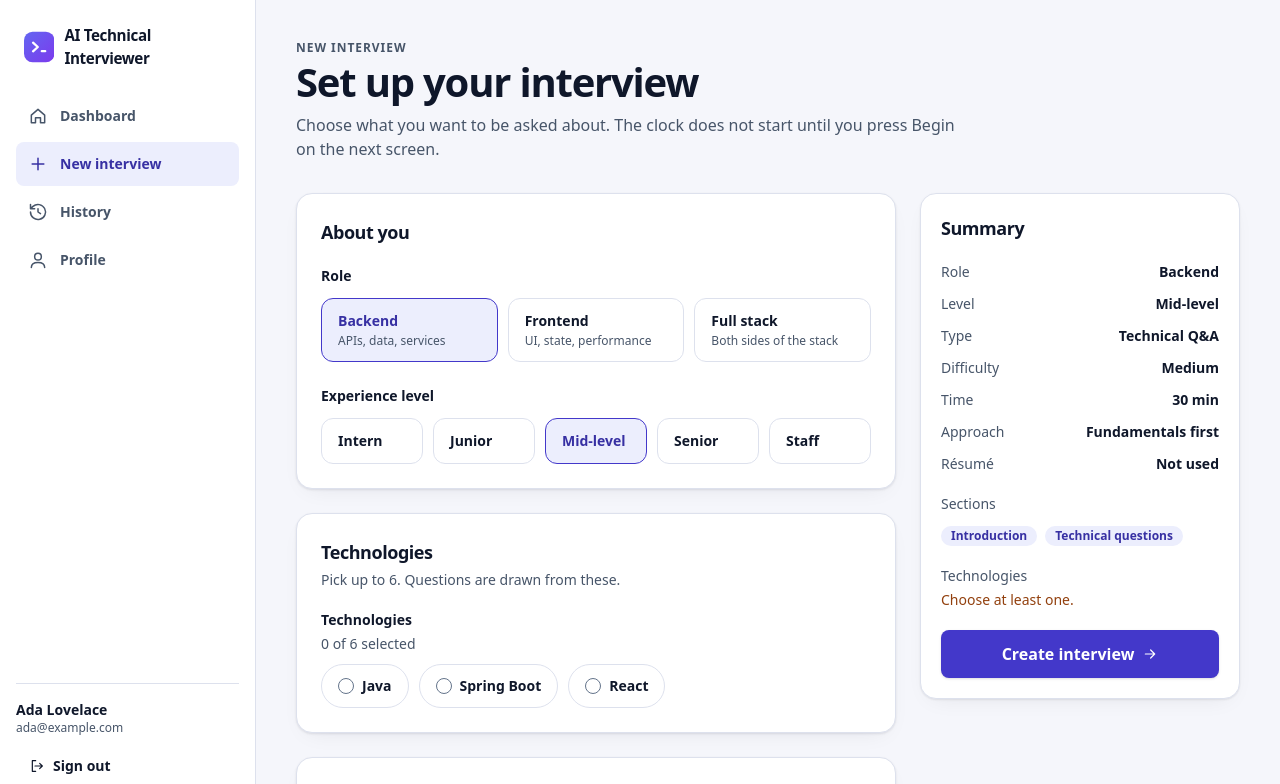
Test case: SetupPage › asks for a technology instead of sending an incomplete setup
Click the button "Create interview" at (1080, 654), box top-left (941, 630), bottom-right (1219, 678)
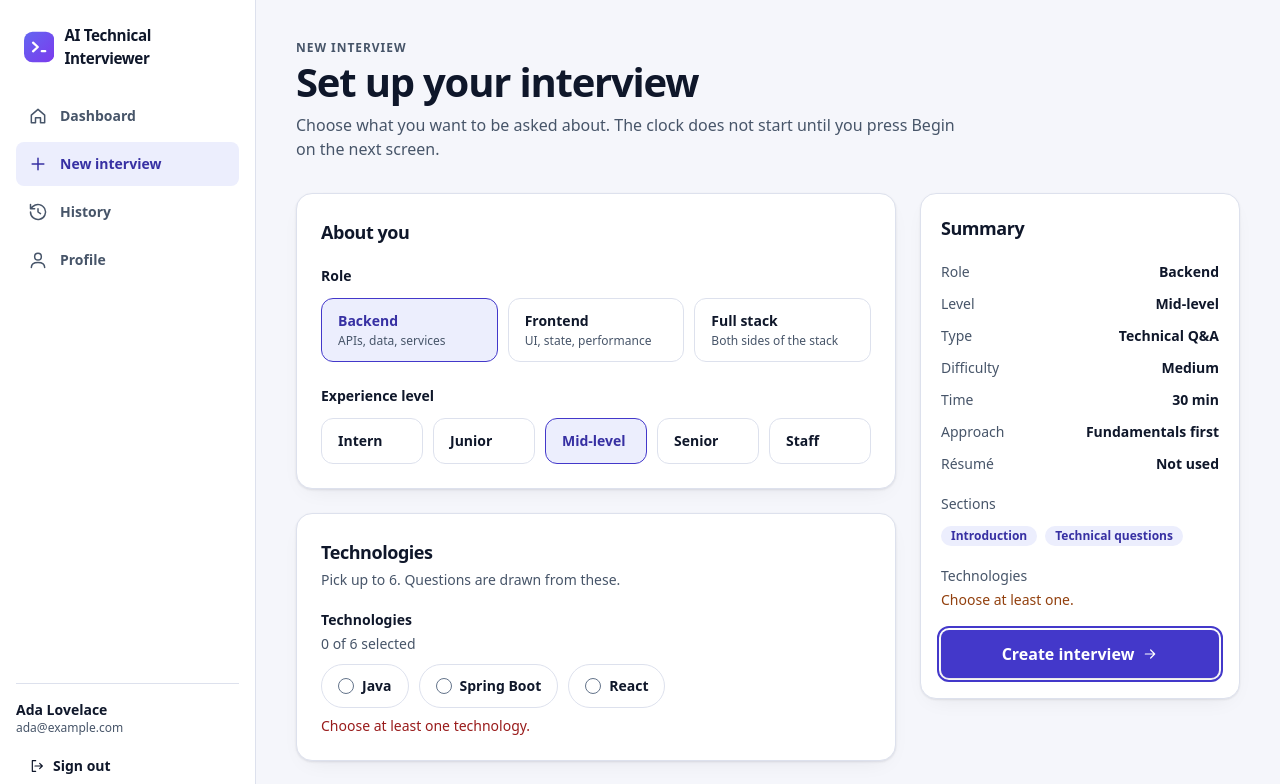
Check: the text "Choose at least one technology." is shown, box top-left (321, 716), bottom-right (530, 735)
